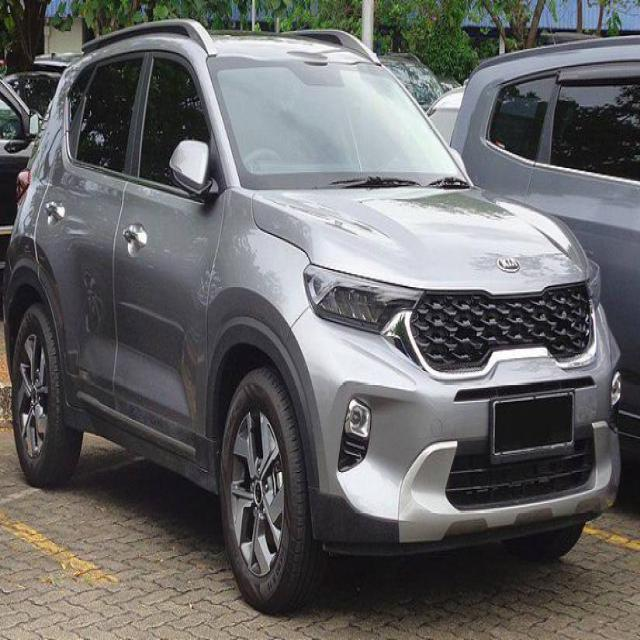SUV: (0, 19, 618, 604)
